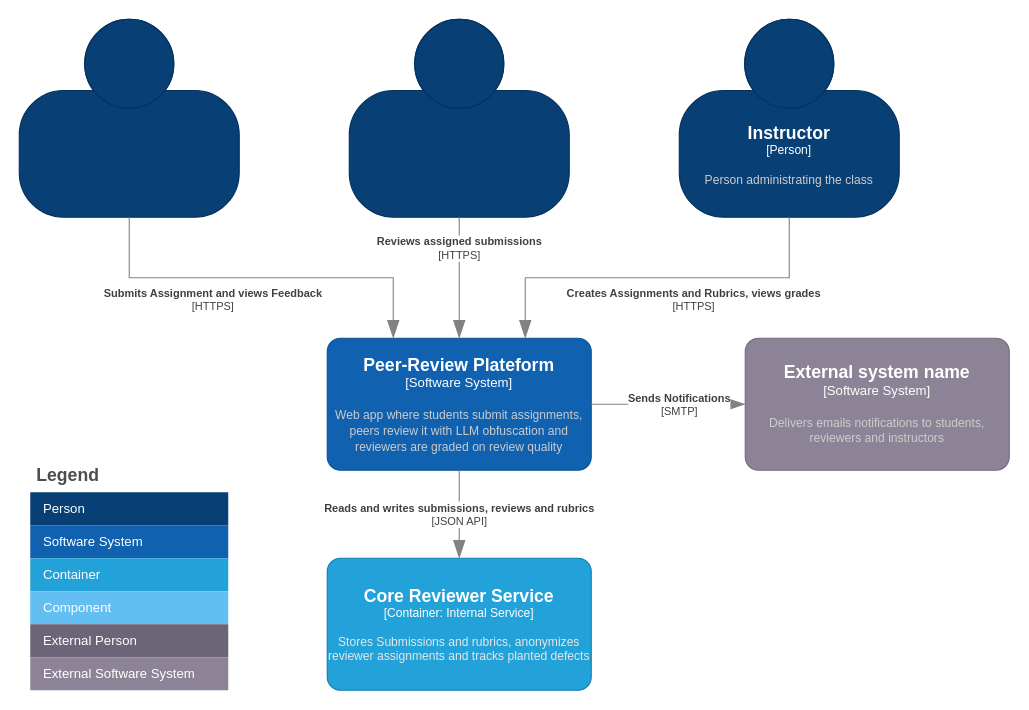
This 1029x710 diagram has some shape labels left out. The shapes that lost their labels are listed below. From the top down, each one's centre as x and y in pixels, then its label:
At pixel 128 117: "Student [Person] Someone who is uploading their program for review by reviewer".
At pixel 458 117: "Reviewer [Person] Person reviewing the students work".
